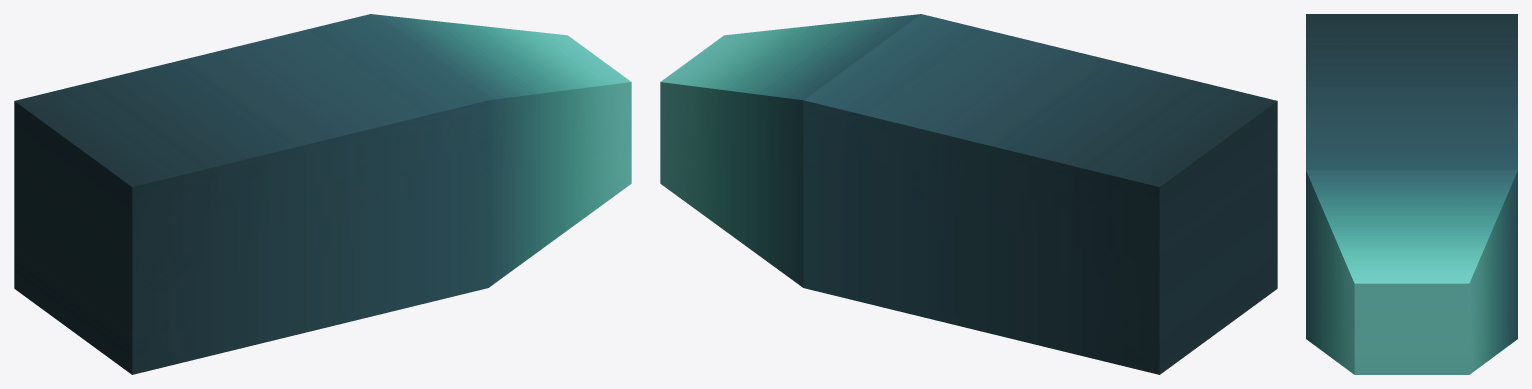
Rendered from ammo_type4_placeholder_v001 1.fbx.
3 renders of one model, left to right at view 1: azimuth 30°, elevation 25°; view 2: azimuth 150°, elevation 25°; view 3: azimuth 270°, elevation 25°, orthographic. The views are drawn at different scales.
Visible parts, largest first — view 1: ammo.004; view 2: ammo.004; view 3: ammo.004.
Part boxes in pixels (<box>): ammo.004: <box>14,14,631,374</box>; ammo.004: <box>660,14,1277,374</box>; ammo.004: <box>1306,14,1517,374</box>.
Bounding box in the file's own units: 23.1 × 59.57 × 20.3.
1 material, 1 textured.
